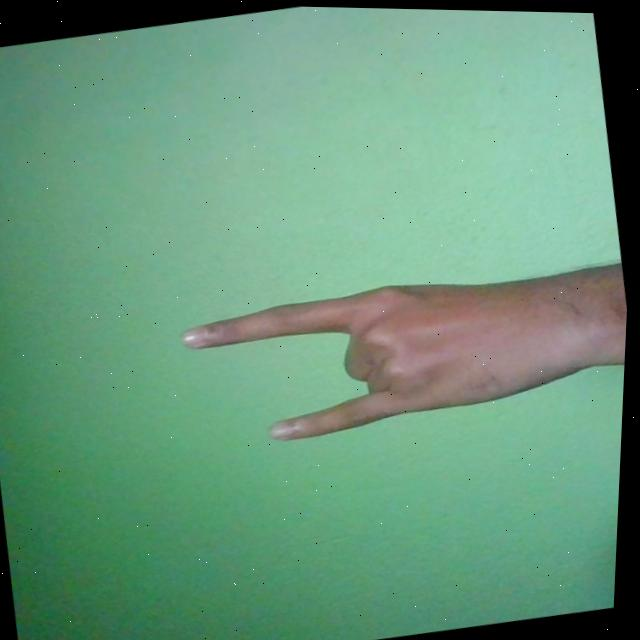Rock On: (175, 246, 626, 460)
